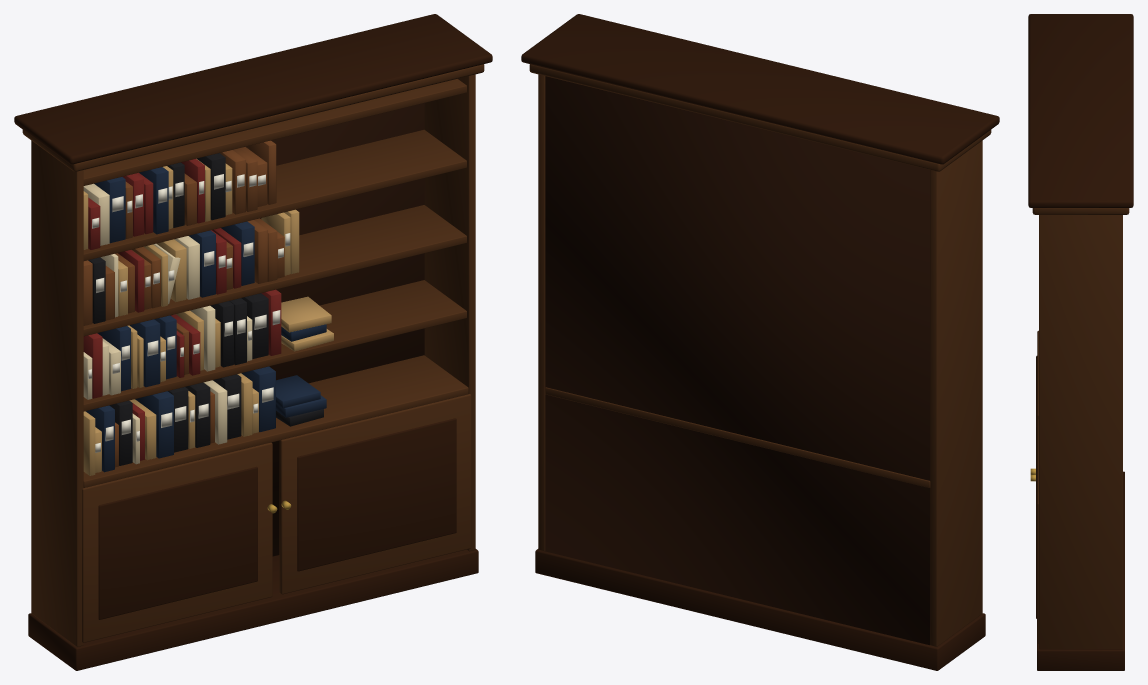
The model's file is frank_bookcase_C.glb.
3 renders of one model, left to right at view 1: azimuth 30°, elevation 25°; view 2: azimuth 150°, elevation 25°; view 3: azimuth 270°, elevation 25°, orthographic. The views are drawn at different scales.
Parts seen in each view (by area): view 1: Bookcase_Walnut, Bookcase_WalnutDark, Bookcase_BackPanel, Bookcase_BinderNavy, Bookcase_BookTan, Bookcase_BinderBlack, Bookcase_BookBrown, Bookcase_BookOxblood, Bookcase_BookCream, Bookcase_Label; view 2: Bookcase_BackPanel, Bookcase_WalnutDark, Bookcase_Walnut; view 3: Bookcase_Walnut, Bookcase_WalnutDark.
Part boxes in pixels (x1,y1,x2,y2): Bookcase_Walnut: (22, 64, 484, 646); Bookcase_WalnutDark: (14, 14, 492, 670); Bookcase_BackPanel: (118, 103, 424, 556); Bookcase_BinderNavy: (85, 167, 326, 472); Bookcase_BookTan: (83, 158, 333, 475); Bookcase_BinderBlack: (88, 153, 323, 465); Bookcase_BookBrown: (83, 140, 284, 467); Bookcase_BookOxblood: (83, 159, 281, 460); Bookcase_BookCream: (83, 183, 252, 464); Bookcase_Label: (88, 174, 290, 452); Bookcase_BackPanel: (545, 76, 930, 645); Bookcase_WalnutDark: (521, 14, 999, 670); Bookcase_Walnut: (529, 64, 991, 646); Bookcase_Walnut: (1032, 208, 1129, 649); Bookcase_WalnutDark: (1028, 14, 1133, 670).
Bounding box in the file's own units: 2.12 × 2.49 × 0.5.
